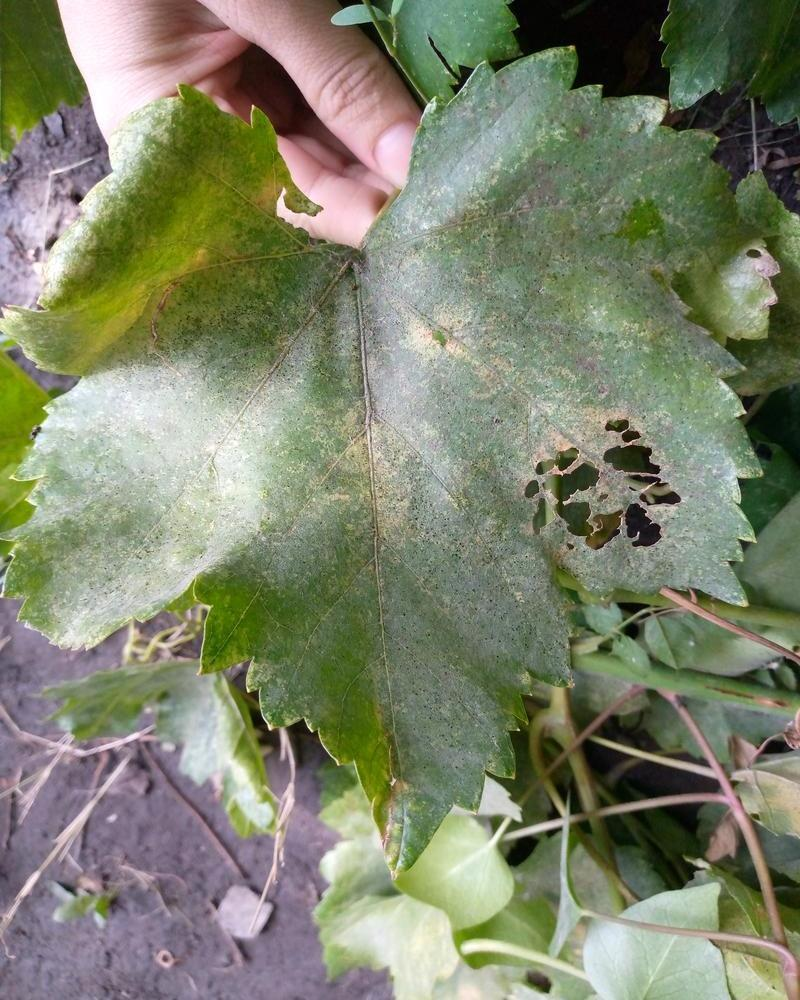Powdery-Mildew: (496, 397, 713, 599), (61, 372, 282, 566), (323, 391, 438, 538), (558, 462, 650, 536), (719, 245, 782, 308), (418, 298, 481, 361)
